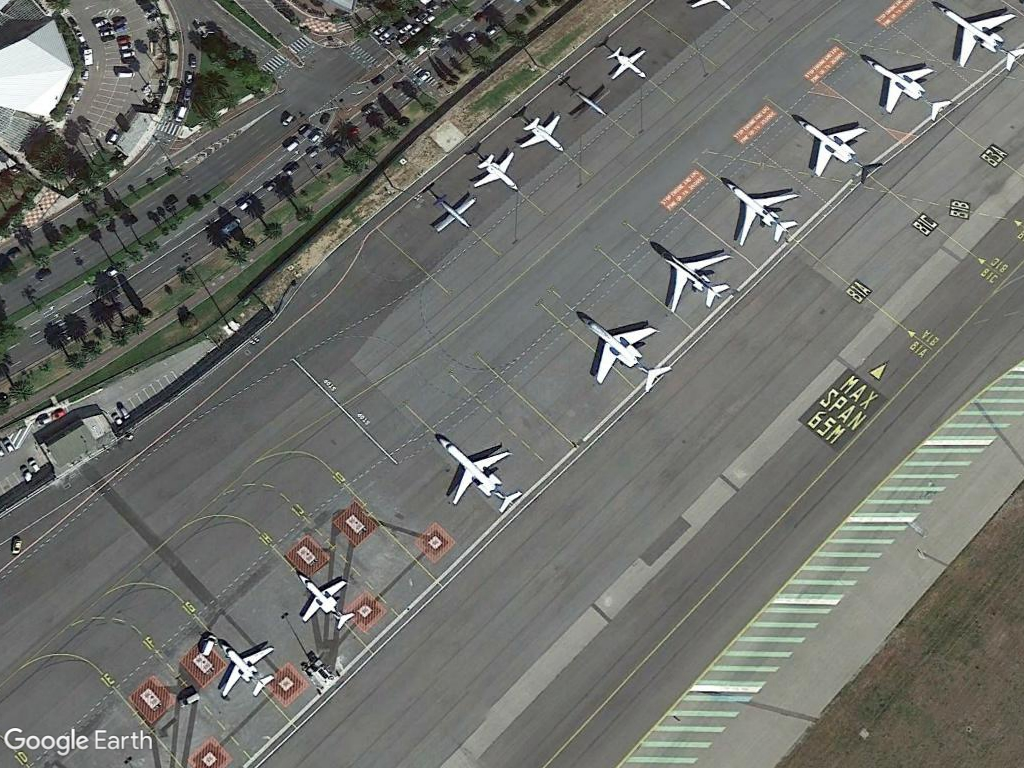chartered: (572, 309, 676, 397), (432, 431, 524, 515), (791, 119, 887, 192), (718, 172, 803, 250), (653, 243, 738, 315), (215, 635, 280, 703), (291, 568, 357, 633), (474, 148, 522, 195)
